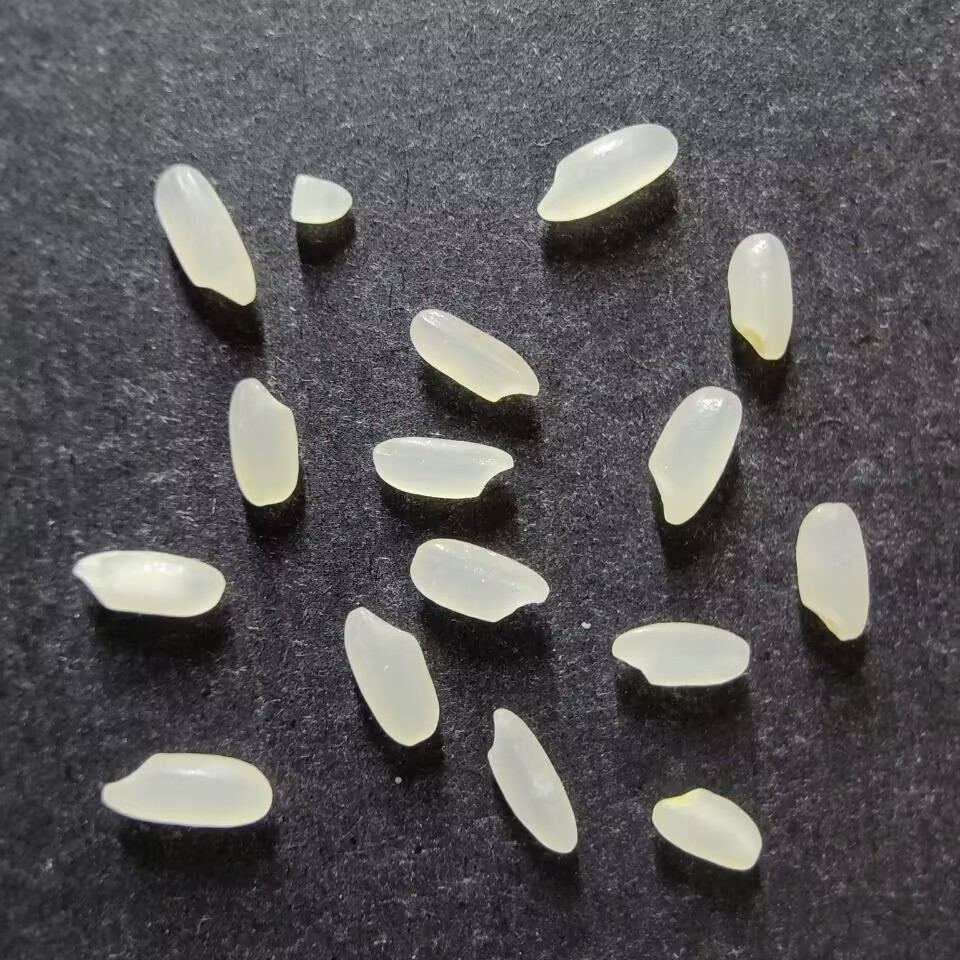broken: (289, 174, 353, 224)
rice: (153, 163, 257, 306), (536, 123, 678, 222), (343, 607, 440, 746), (647, 385, 743, 525), (487, 707, 577, 854), (101, 752, 272, 827), (409, 308, 539, 403), (409, 538, 549, 622), (795, 501, 870, 640), (72, 550, 226, 616), (650, 787, 762, 870), (227, 377, 298, 506), (610, 621, 750, 686), (371, 436, 513, 498), (726, 232, 793, 360)
